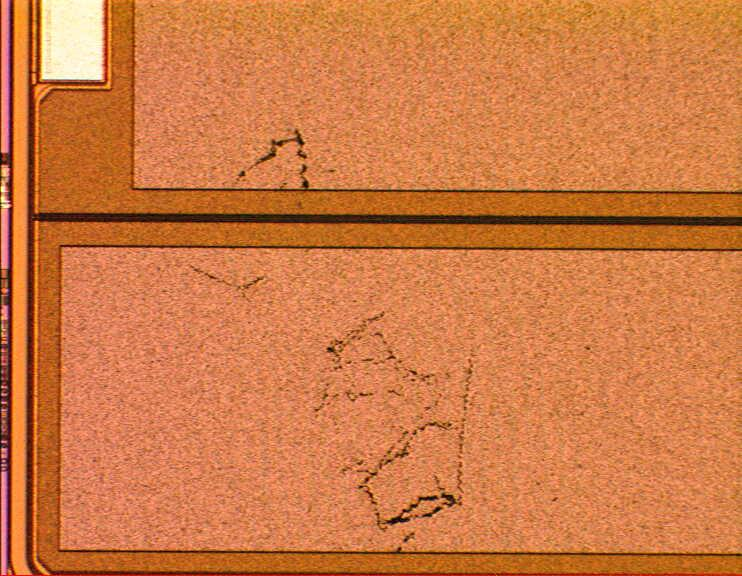SCRATCH: (182, 126, 490, 570)
